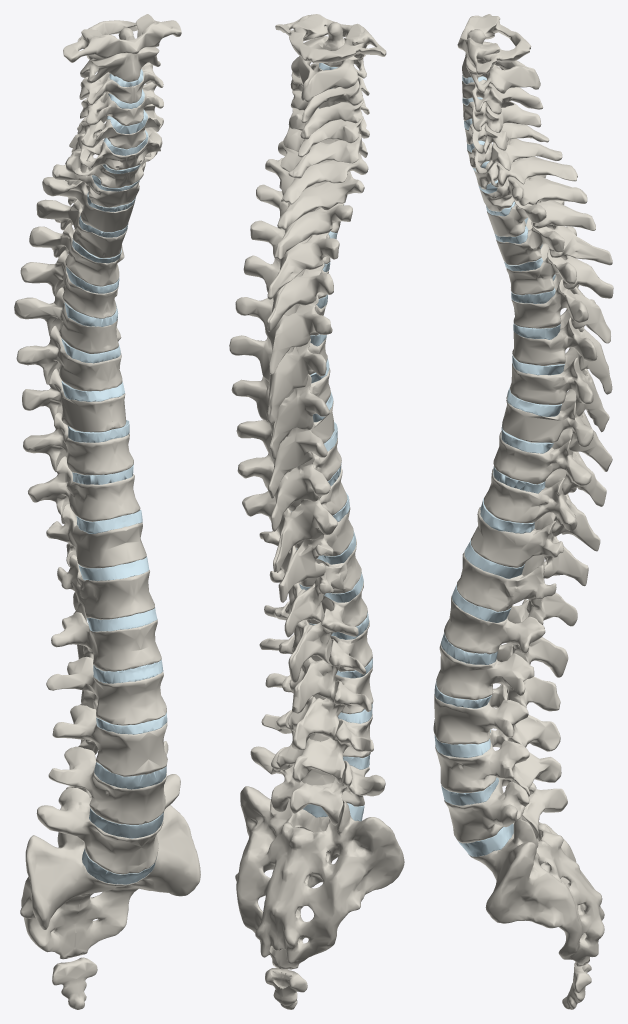
Rendered from spine-v1.glb.
3 renders of one model, left to right at view 1: azimuth 30°, elevation 25°; view 2: azimuth 150°, elevation 25°; view 3: azimuth 270°, elevation 25°, orthographic. The views are drawn at different scales.
Visible parts, largest first — view 1: Sacrum, Vertebra L5, Vertebra L2, Vertebra L3, Vertebra L4, Vertebra L1, Vertebra T10, Vertebra T12, Vertebra T9, Vertebra T11, Vertebra T7, Atlas (C1) (+28 smaller); view 2: Sacrum, Vertebra L5, Vertebra L4, Vertebra T10, Vertebra L3, Vertebra L2, Vertebra L1, Vertebra T6, Vertebra T7, Vertebra T9, Vertebra T5, Vertebra T8 (+16 smaller); view 3: Sacrum, Vertebra L3, Vertebra L2, Vertebra L1, Vertebra T12, Vertebra L4, Vertebra L5, Vertebra T10, Vertebra T11, Vertebra T9, Vertebra T8, Vertebra T7 (+27 smaller).
Boxes of the visible parts, x1,y1,x2,y2 form: Sacrum: (20,805,200,959); Vertebra L5: (36,774,180,874); Vertebra L2: (46,656,166,725); Vertebra L3: (52,705,167,776); Vertebra L4: (48,741,168,824); Vertebra L1: (51,612,161,671); Vertebra T10: (28,456,140,523); Vertebra T12: (57,554,154,621); Vertebra T9: (23,412,133,475); Vertebra T11: (46,504,146,568); Vertebra T7: (16,325,122,391); Atlas (C1): (63,14,181,62); Sacrum: (235,786,404,969); Vertebra L5: (250,746,385,825); Vertebra L4: (261,710,373,783); Vertebra T10: (242,467,347,572); Vertebra L3: (265,664,373,750); Vertebra L2: (259,620,372,713); Vertebra L1: (264,581,367,682); Vertebra T6: (229,335,327,424); Vertebra T7: (231,368,330,458); Vertebra T9: (237,438,341,531); Vertebra T5: (235,295,332,374); Vertebra T8: (236,401,334,499); Sacrum: (468,782,604,966); Vertebra L3: (433,684,560,751); Vertebra L2: (436,643,560,711); Vertebra L1: (444,596,568,677); Vertebra T12: (457,552,577,626); Vertebra L4: (435,729,561,796); Vertebra L5: (444,778,567,843); Vertebra T10: (484,468,600,551); Vertebra T11: (471,507,588,586); Vertebra T9: (493,428,606,506); Vertebra T8: (502,389,612,471); Vertebra T7: (510,347,609,432).
Bounding box in the file's own units: 0.1229 × 0.7225 × 0.1202.
